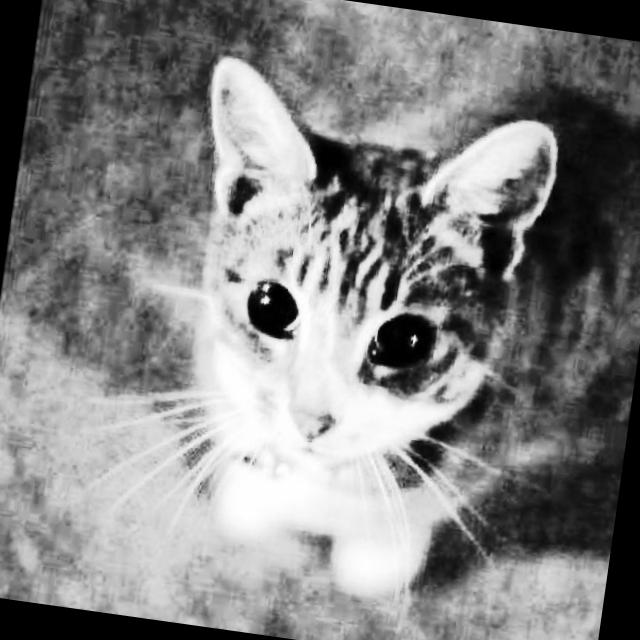Cat: (77, 19, 640, 640)
